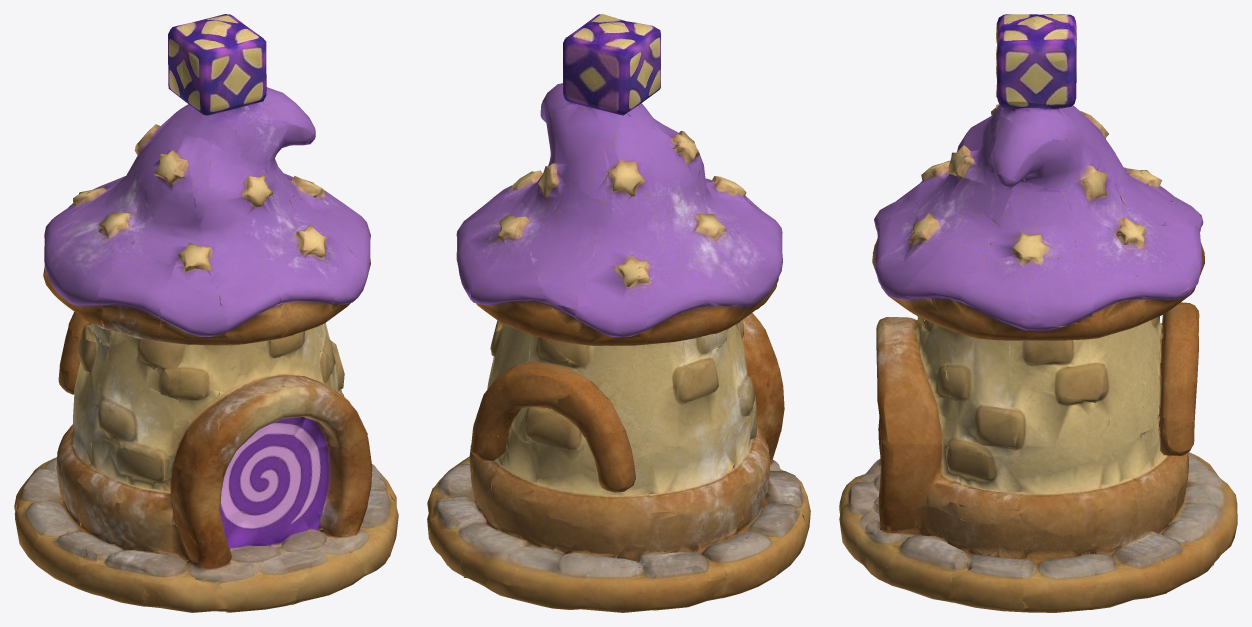
Rendered from portal-observatory.glb.
3 renders of one model, left to right at view 1: azimuth 30°, elevation 25°; view 2: azimuth 150°, elevation 25°; view 3: azimuth 270°, elevation 25°, orthographic. The views are drawn at different scales.
Parts seen in each view (by area): view 1: Mesh_0; view 2: Mesh_0; view 3: Mesh_0.
Boxes of the visible parts, box(x1,y1,x2,y2) form: Mesh_0: box(14, 14, 398, 612); Mesh_0: box(427, 14, 810, 612); Mesh_0: box(839, 14, 1237, 612).
Bounding box in the file's own units: 1.31 × 1.9 × 1.32.
Materials: 1 (1 with a texture image).
